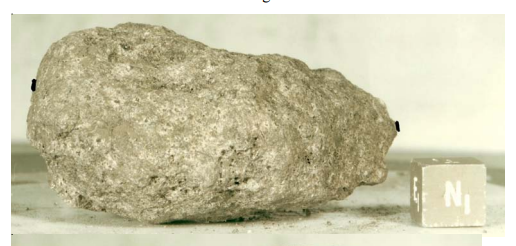Basalt: (19, 11, 400, 224)
